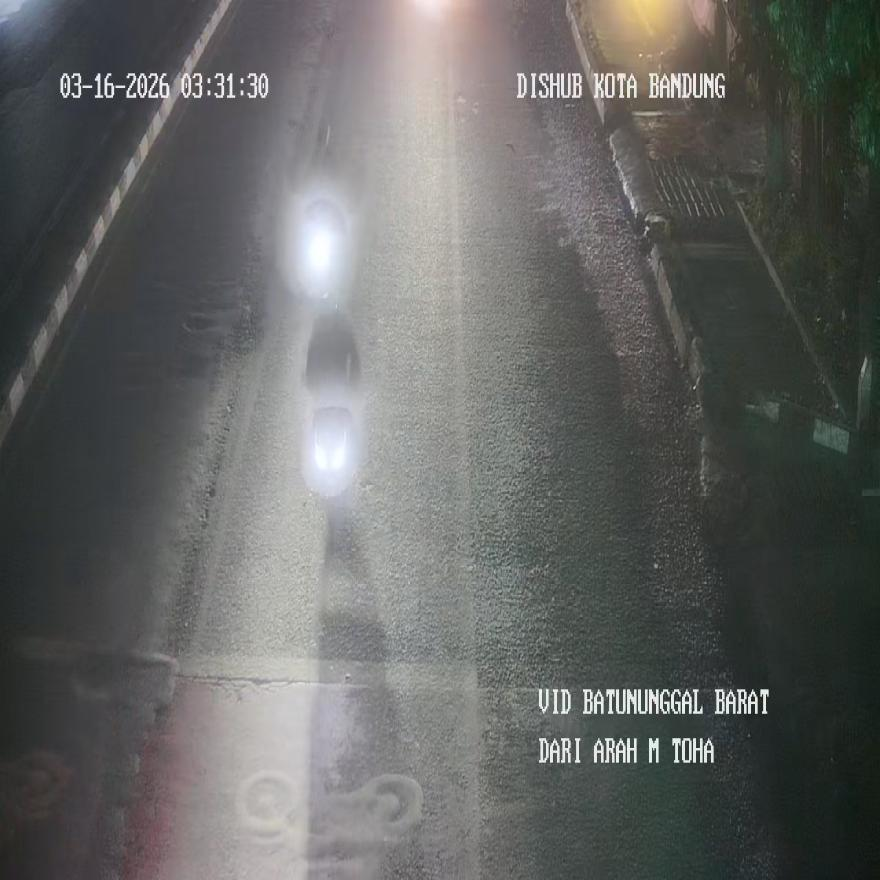Motor: (300, 304, 364, 509), (295, 186, 354, 286)
